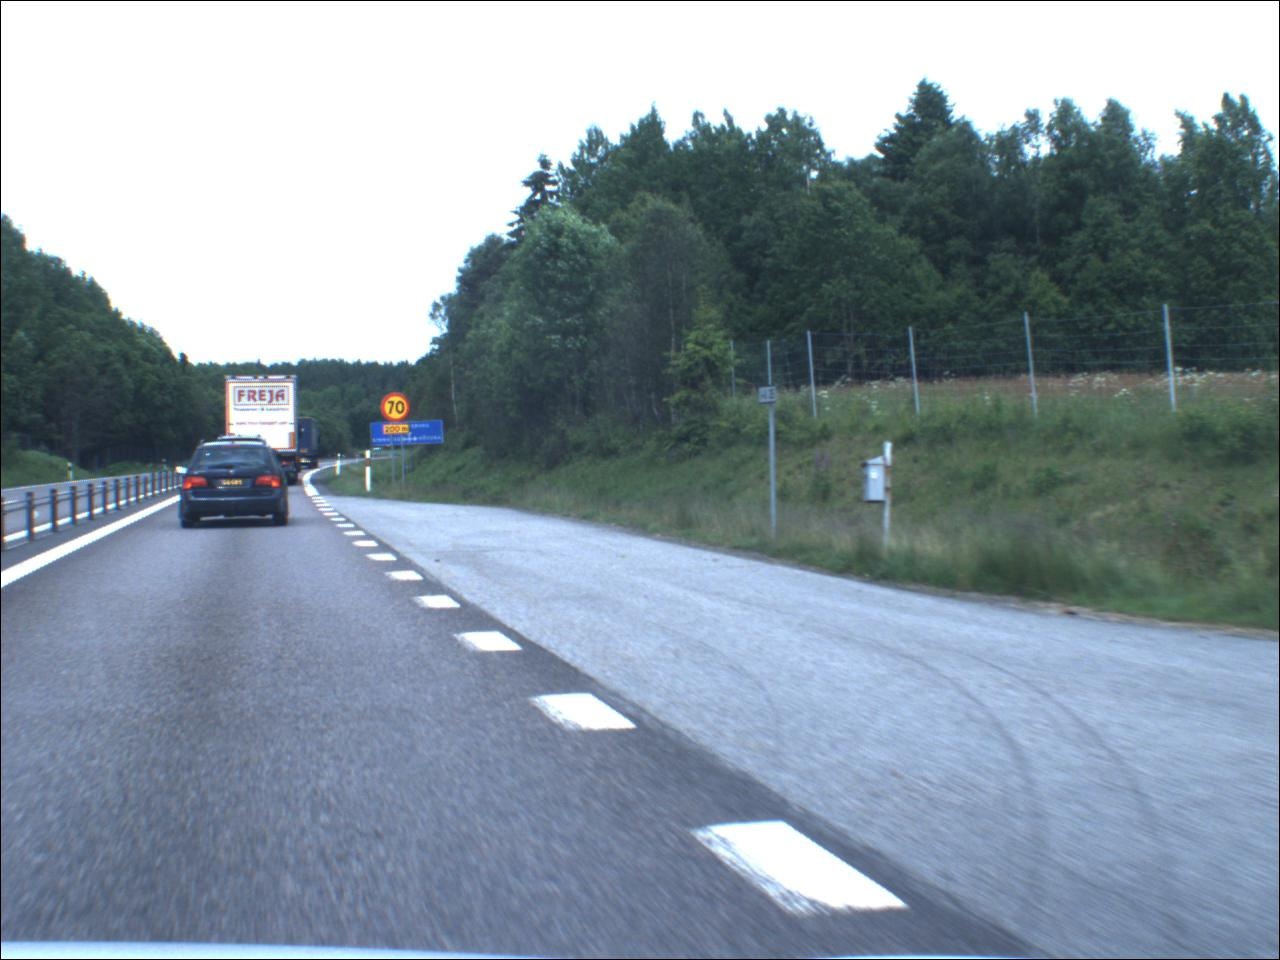70_SIGN: (383, 394, 411, 421)
